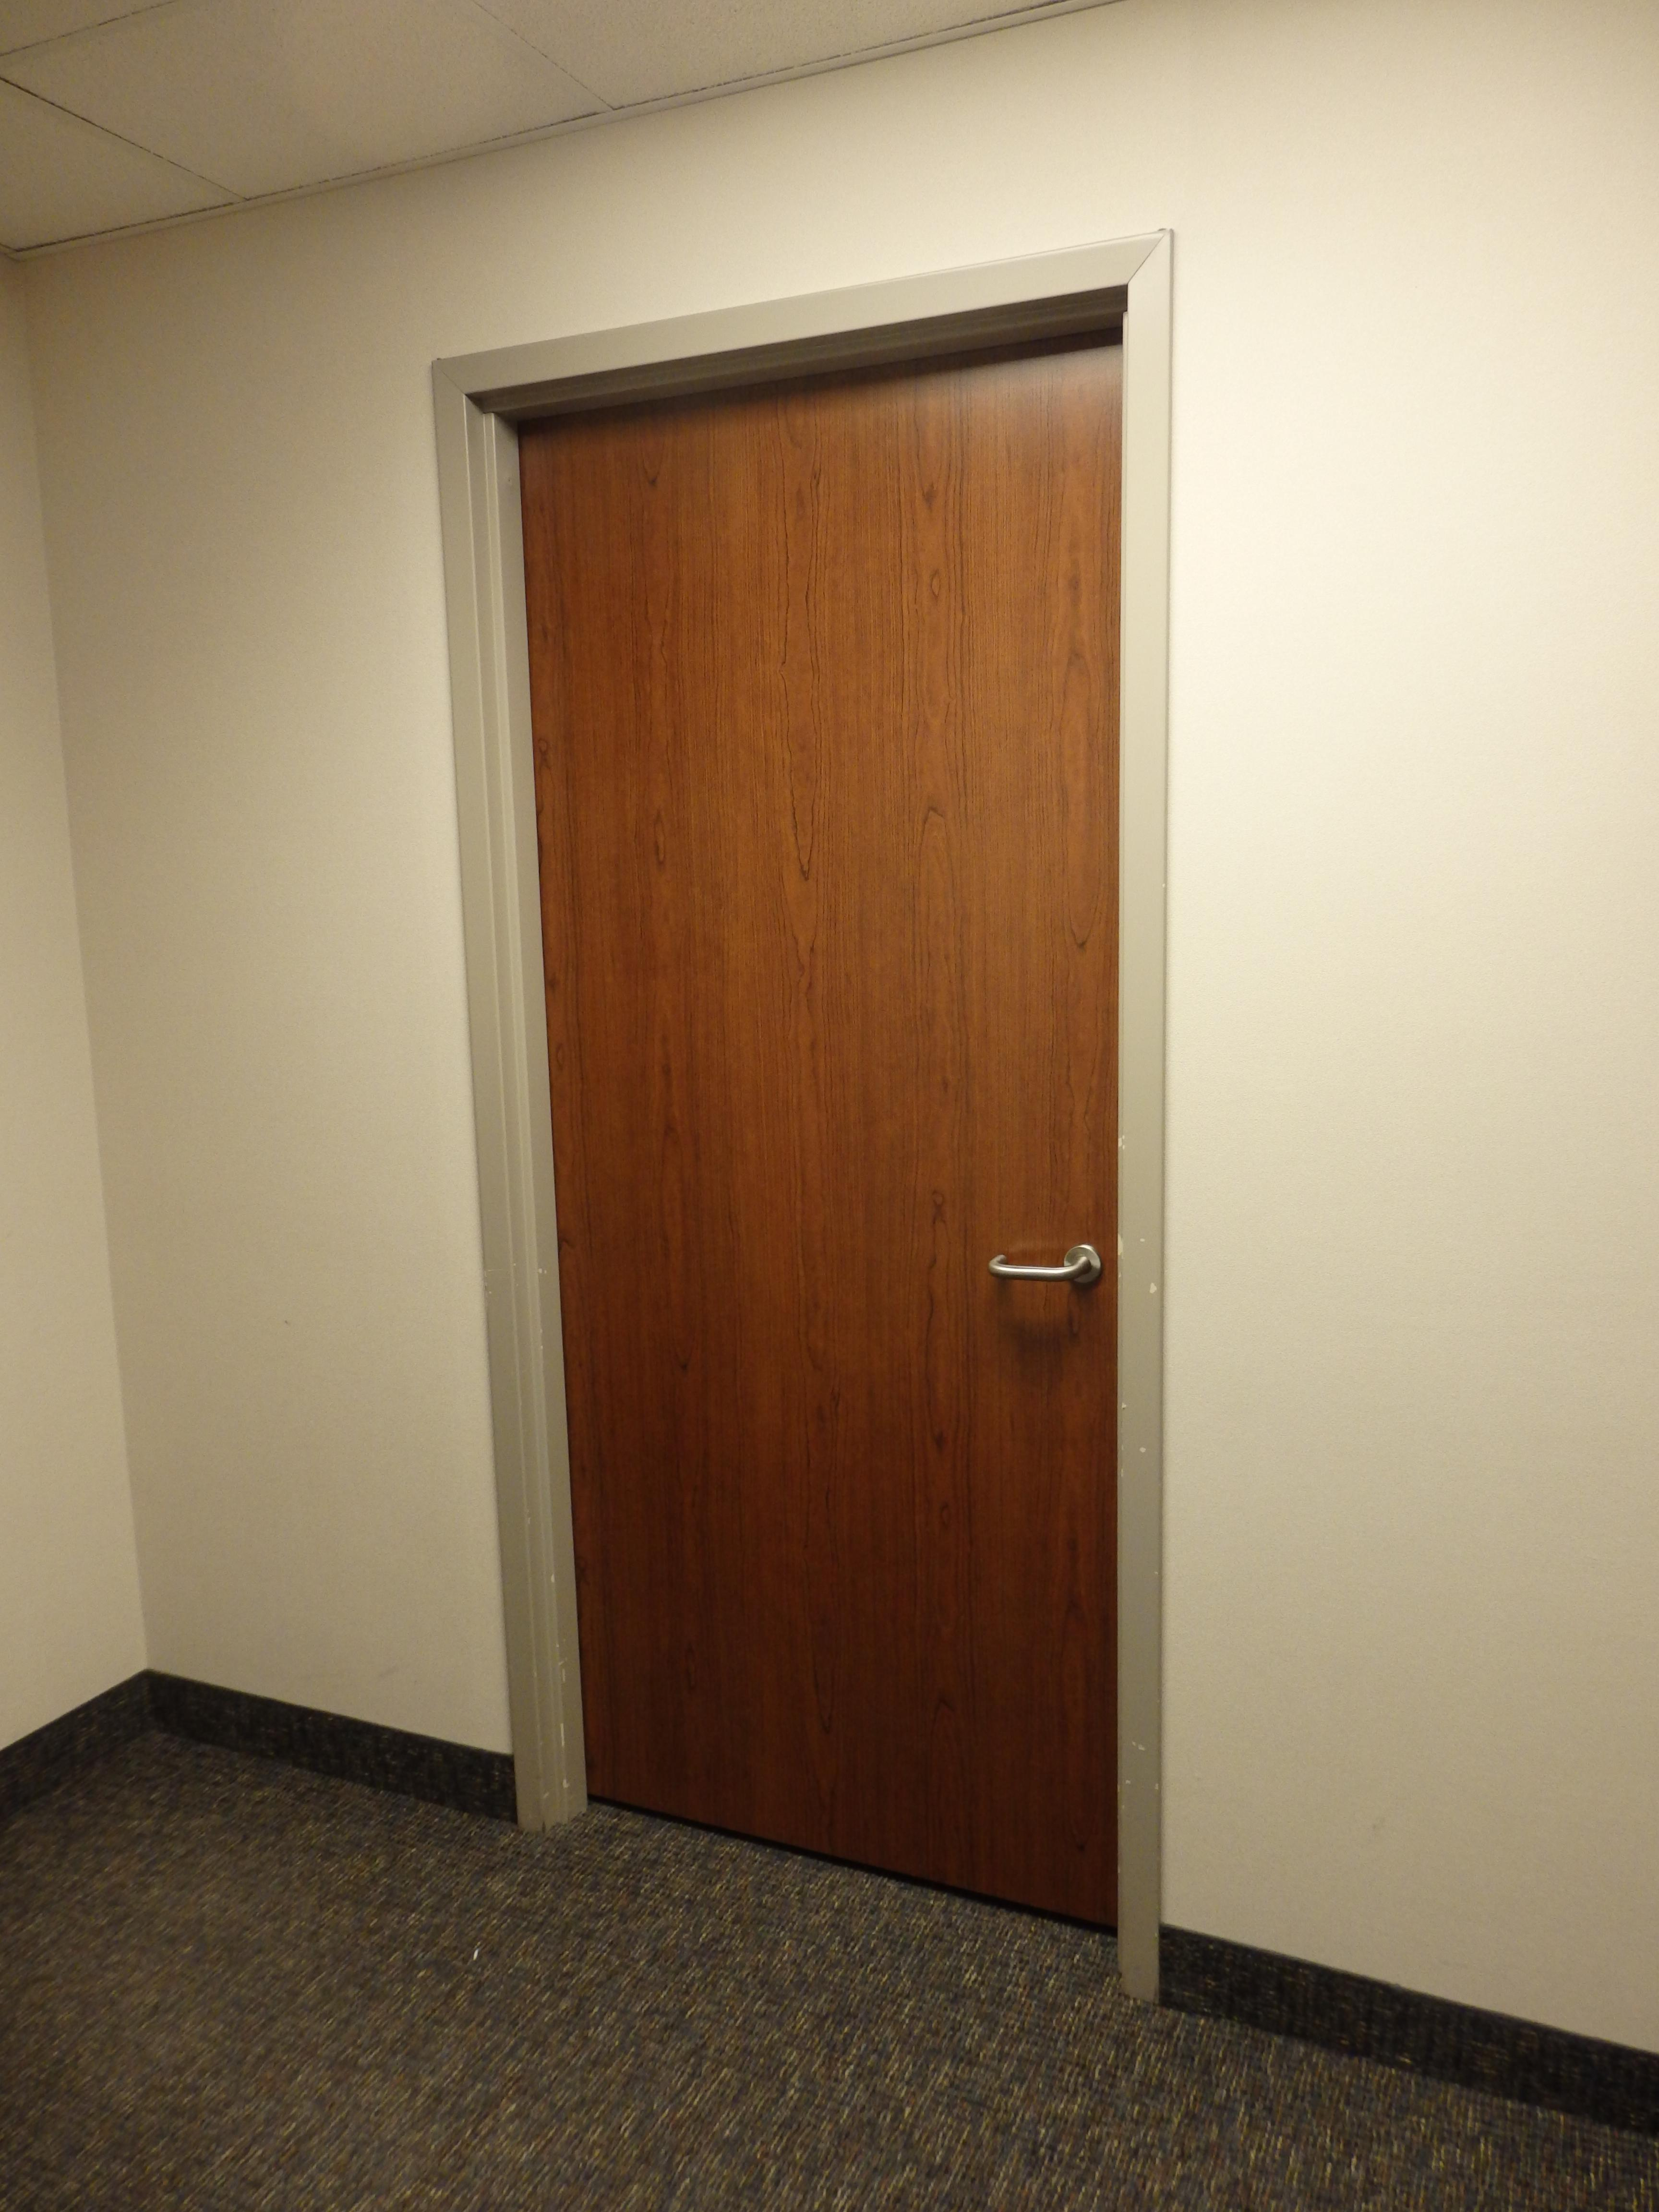door: (481, 296, 1141, 1930)
